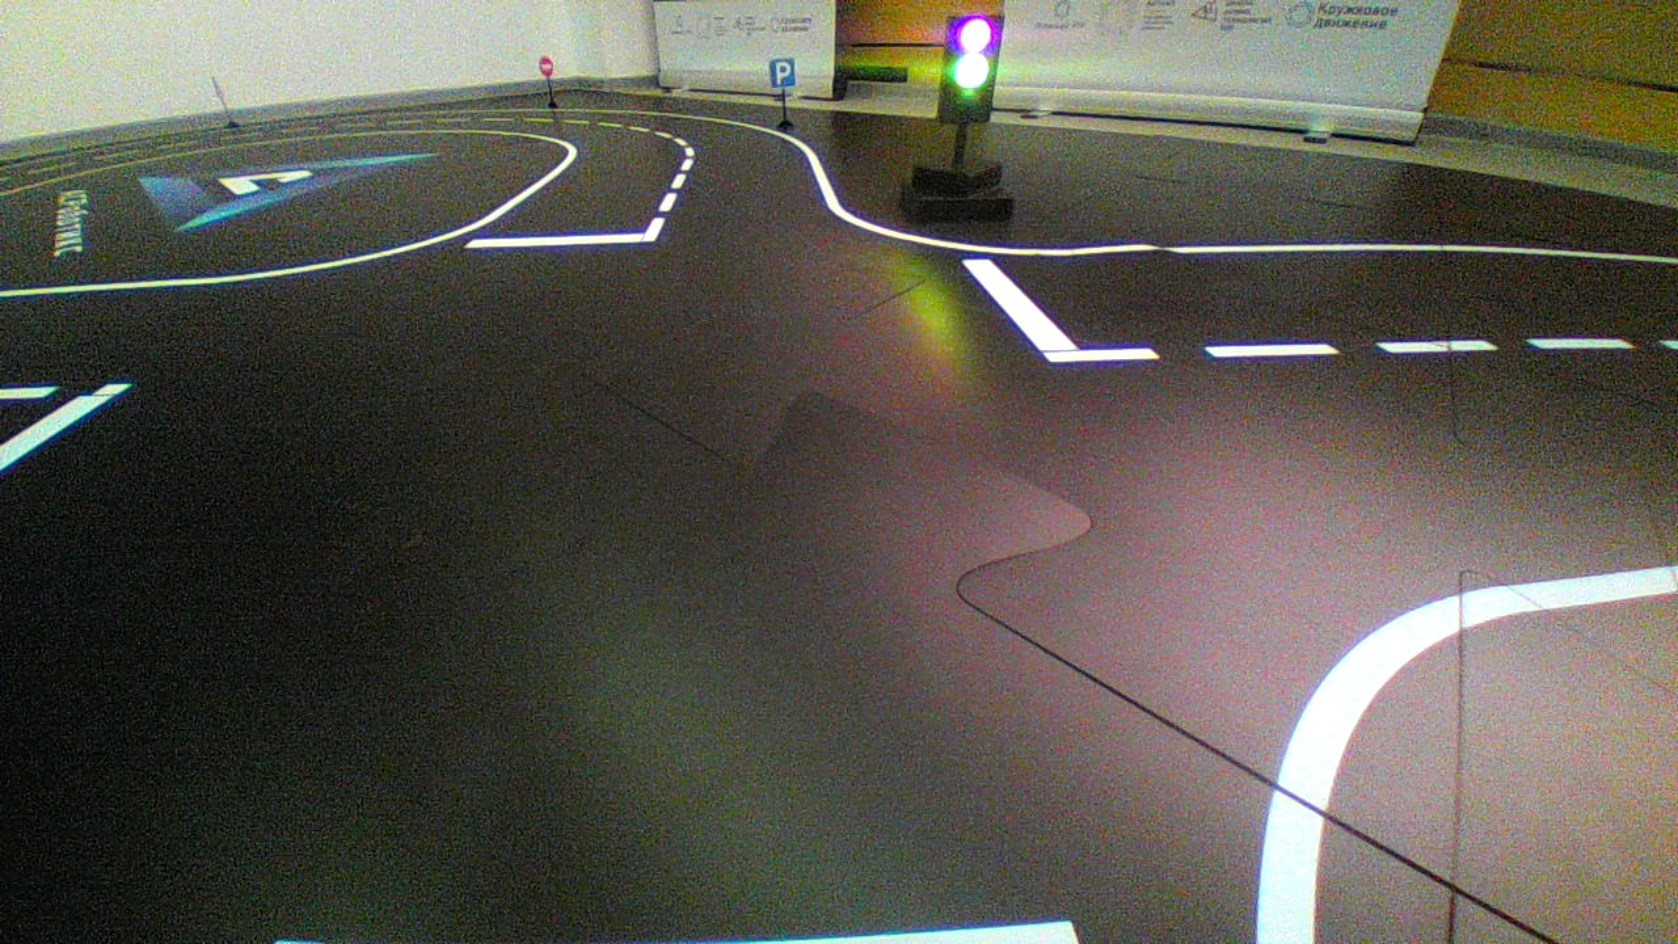trafficlight: (934, 13, 1006, 124)
